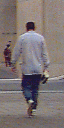person: (15, 20, 48, 116)
